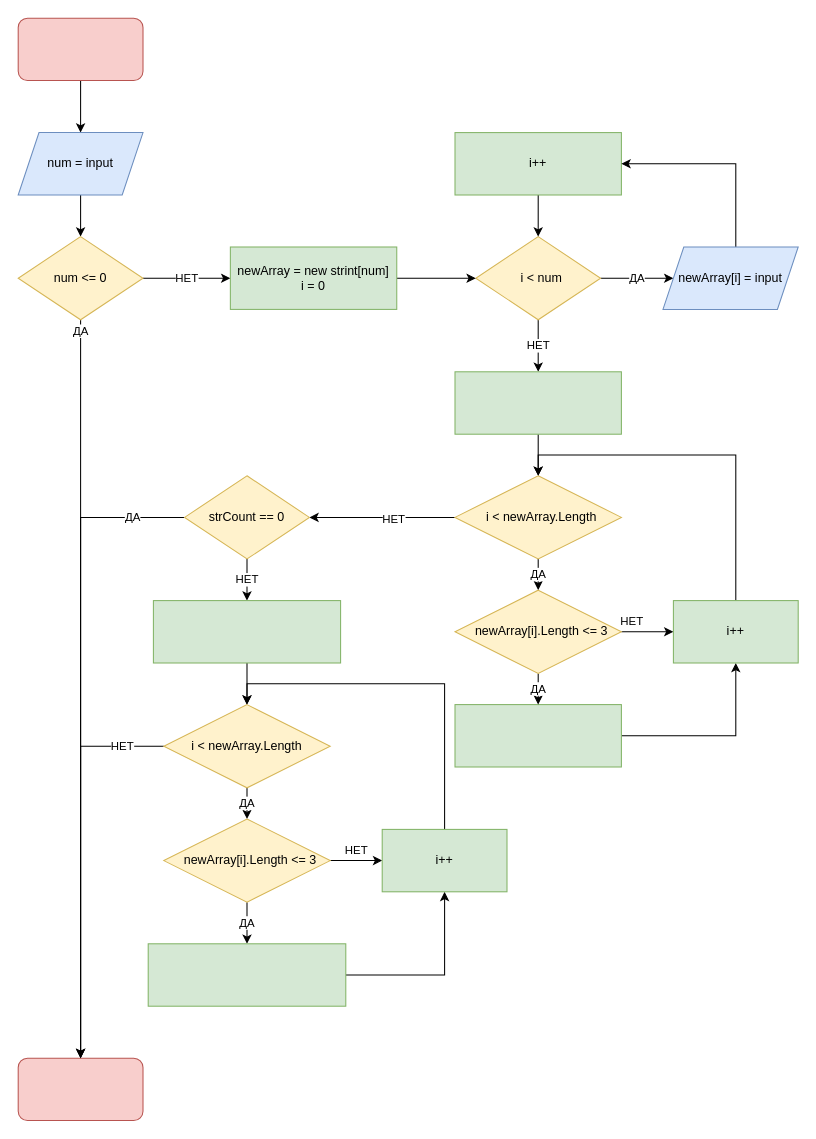
Some shapes in this 816 by 1139 pixel diagram are drawn without their labels. The shapes that lost their labels are listed below. From the top down, each one's centre as x and y in pixels, then its label:
(x=80, y=49): START
(x=537, y=402): strCount = 0 i = 0
(x=246, y=631): resultArray = new strint[strCount] i = 0 strCount = 0
(x=537, y=735): strCount++
(x=246, y=974): resultArray[strCount] = newArray[i] strCount++
(x=80, y=1089): STOP
